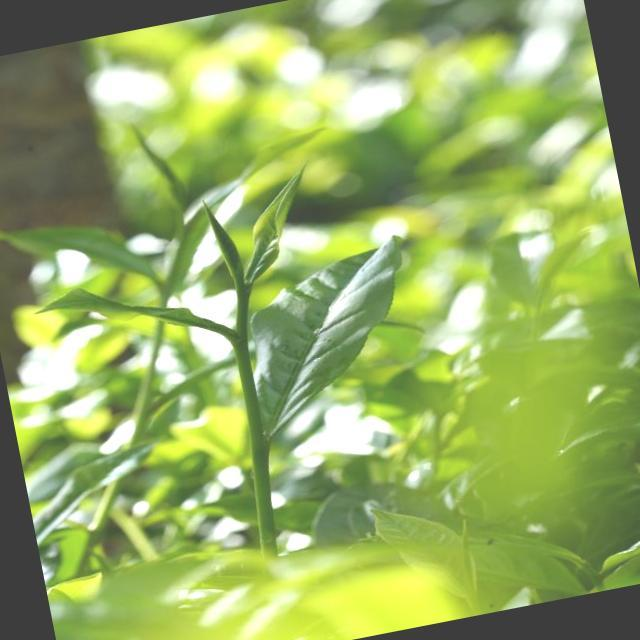Stem: (237, 289, 248, 306)
